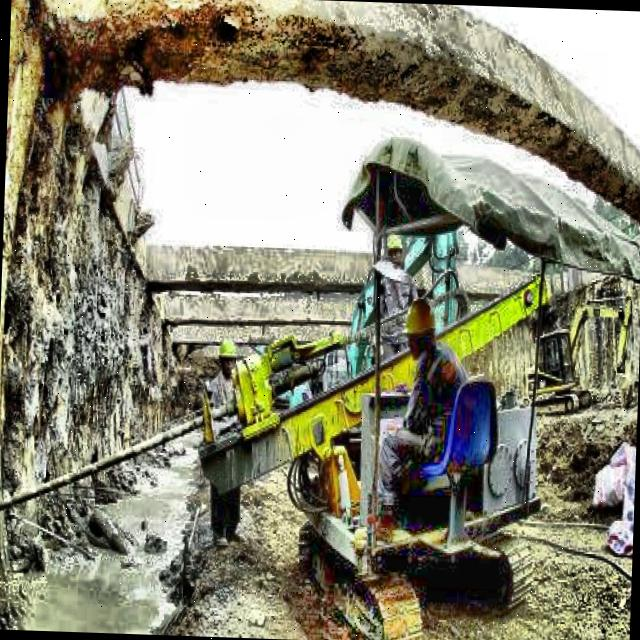helmet: (396, 288, 438, 364), (214, 332, 244, 377), (380, 228, 404, 273)
